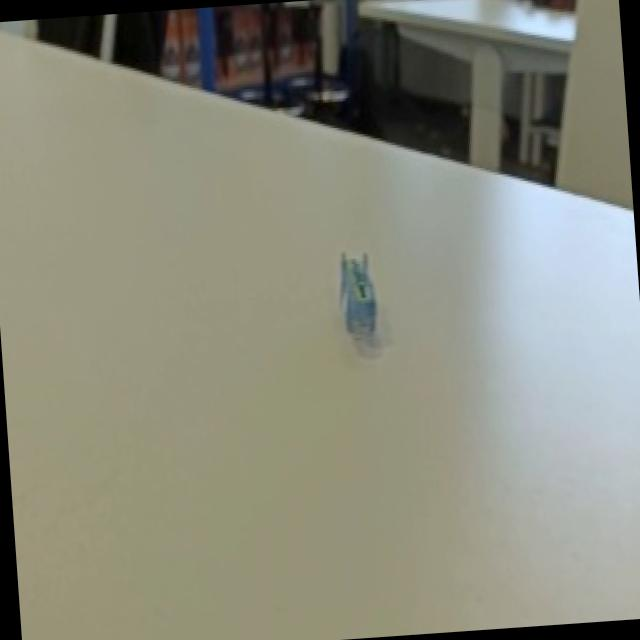3_NanoBug_Celeste: (292, 240, 402, 398)
